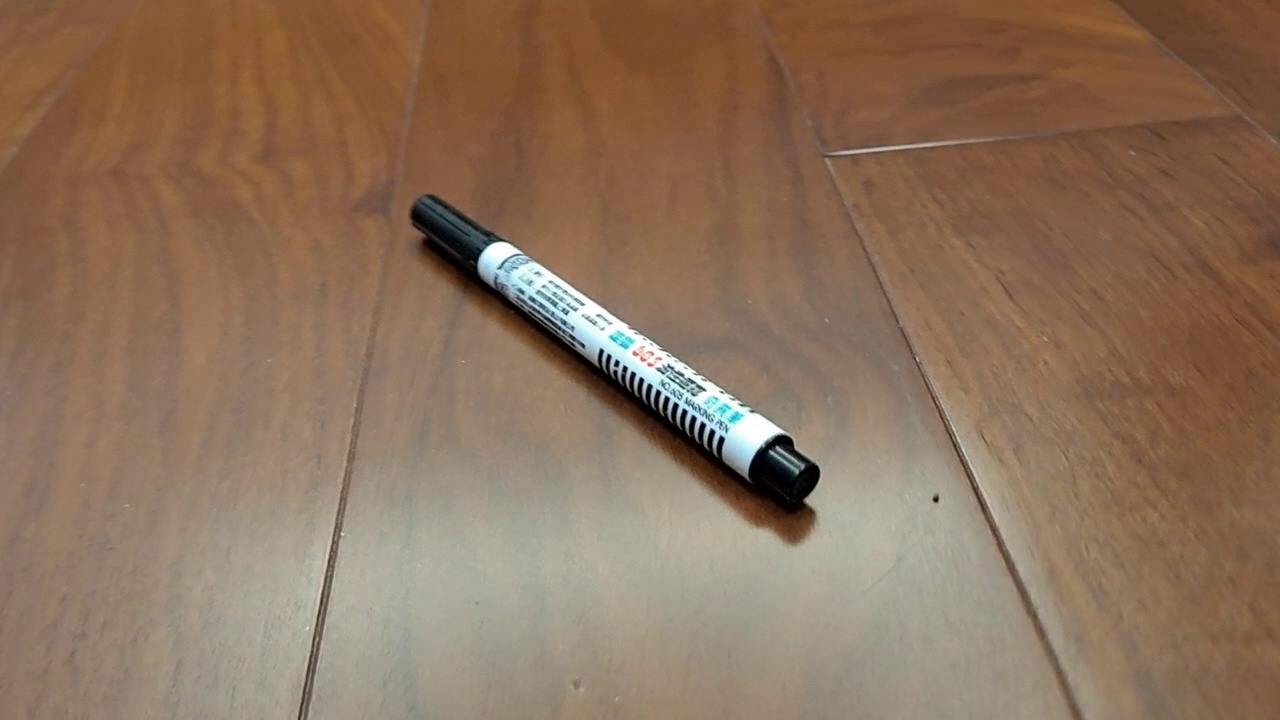pen: (409, 192, 821, 504)
